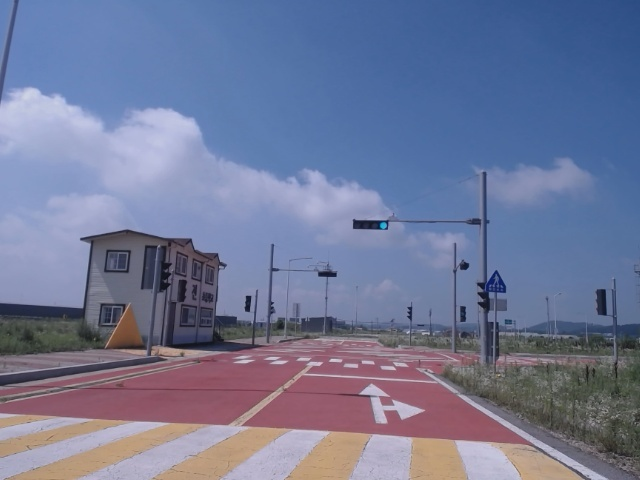straight_green_4: (354, 221, 389, 230)
